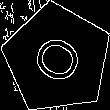O_SE: (25, 27, 90, 90)
